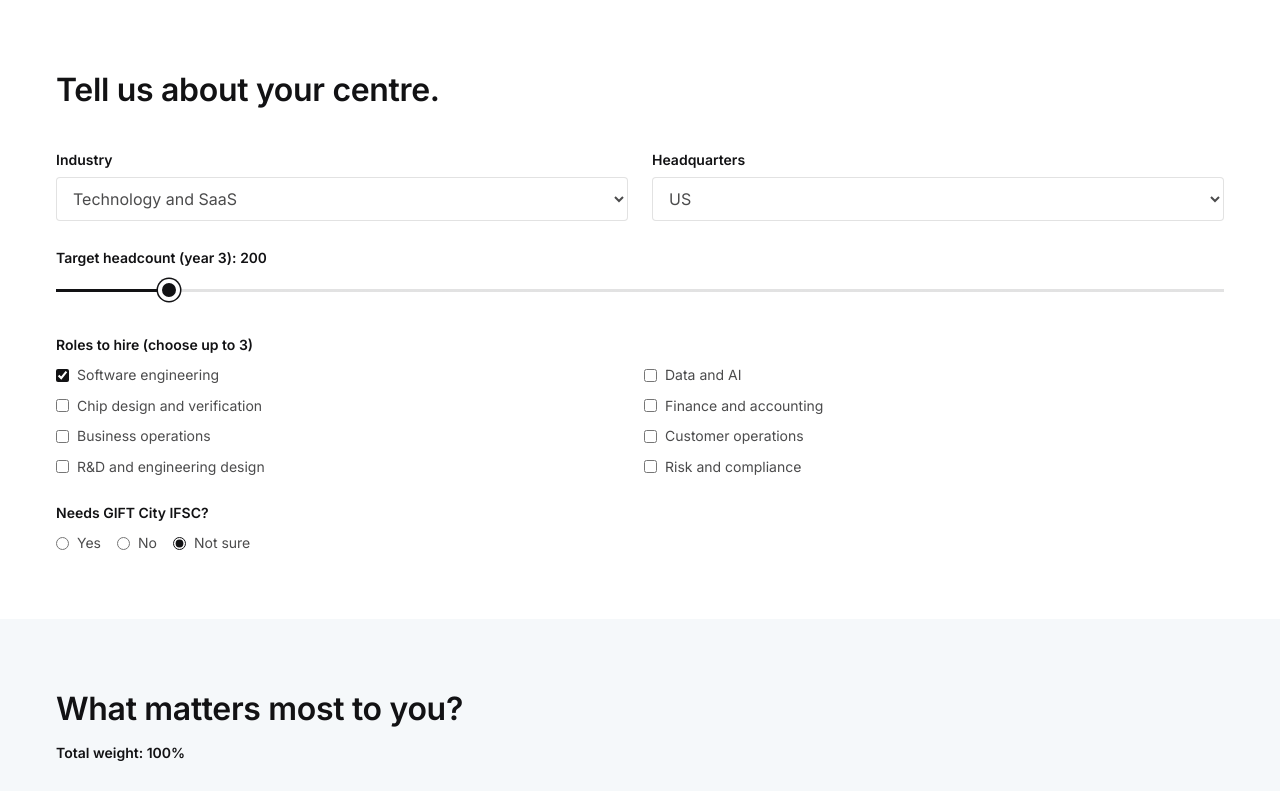
Scenario: LocationFinder › caps role selection at the maximum and disables further checkboxes
"Software engineering" is checked by default.
Click the checkbox labelled "Data and AI" at (650, 376), box 644,369 -> 657,382
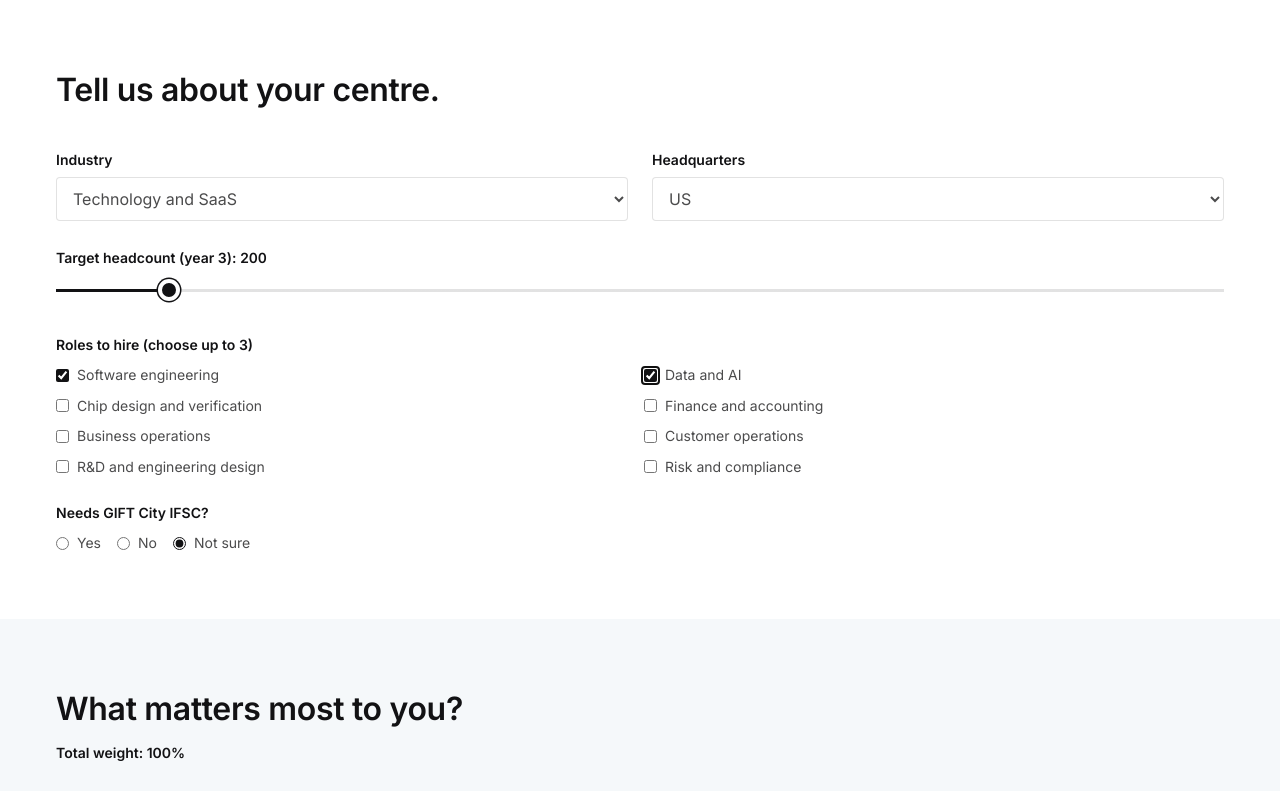
Click the checkbox labelled "Chip design and verification" at (62, 406), box 56,399 -> 69,412
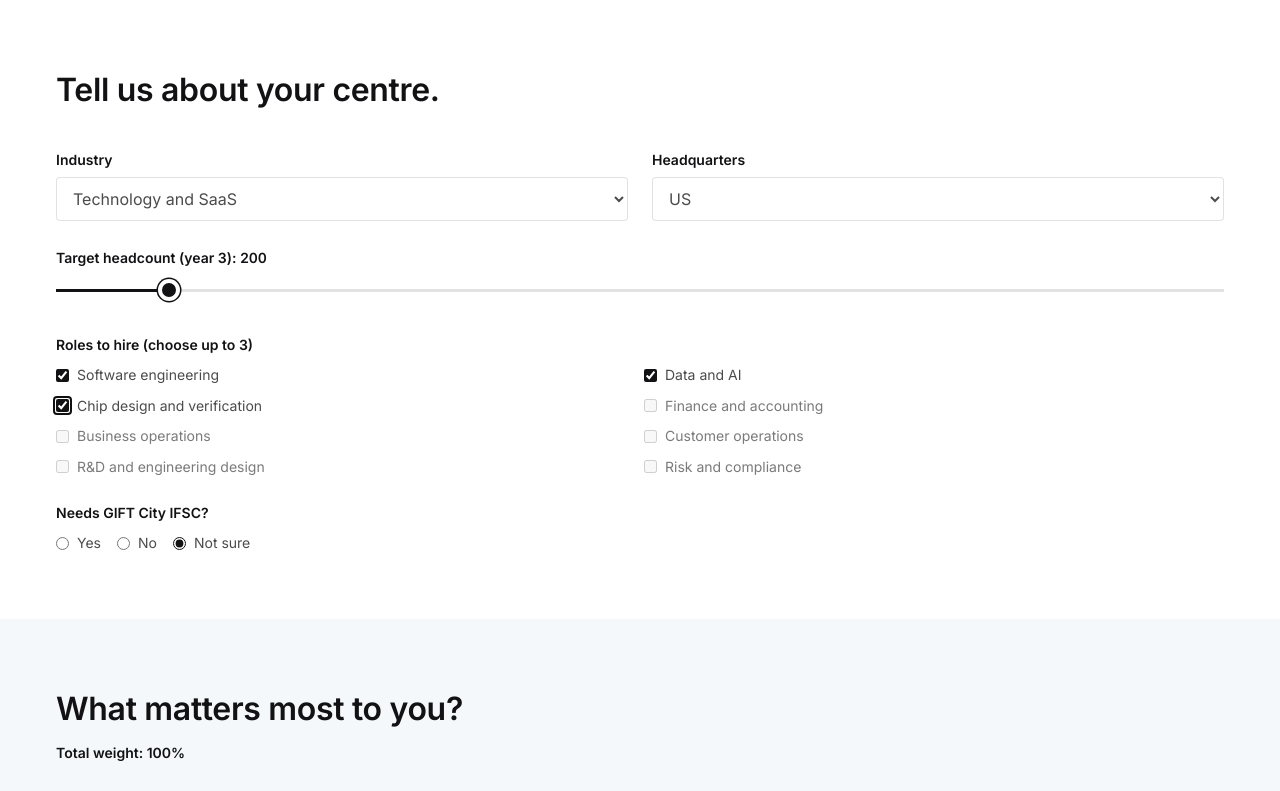
Expected: the checkbox labelled "Finance and accounting" is disabled, 644,399 -> 657,412
